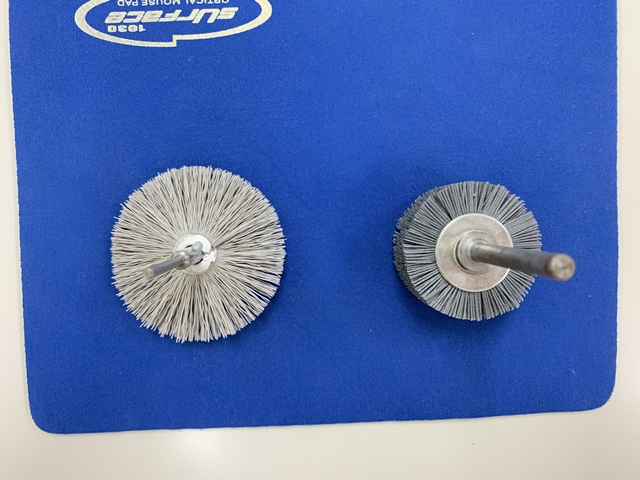TOOL: (109, 165, 296, 341), (148, 149, 307, 350), (87, 151, 294, 281), (97, 153, 216, 348)
Wheel Brush: (388, 171, 585, 336), (391, 164, 540, 335), (450, 161, 585, 345), (387, 166, 521, 346)
